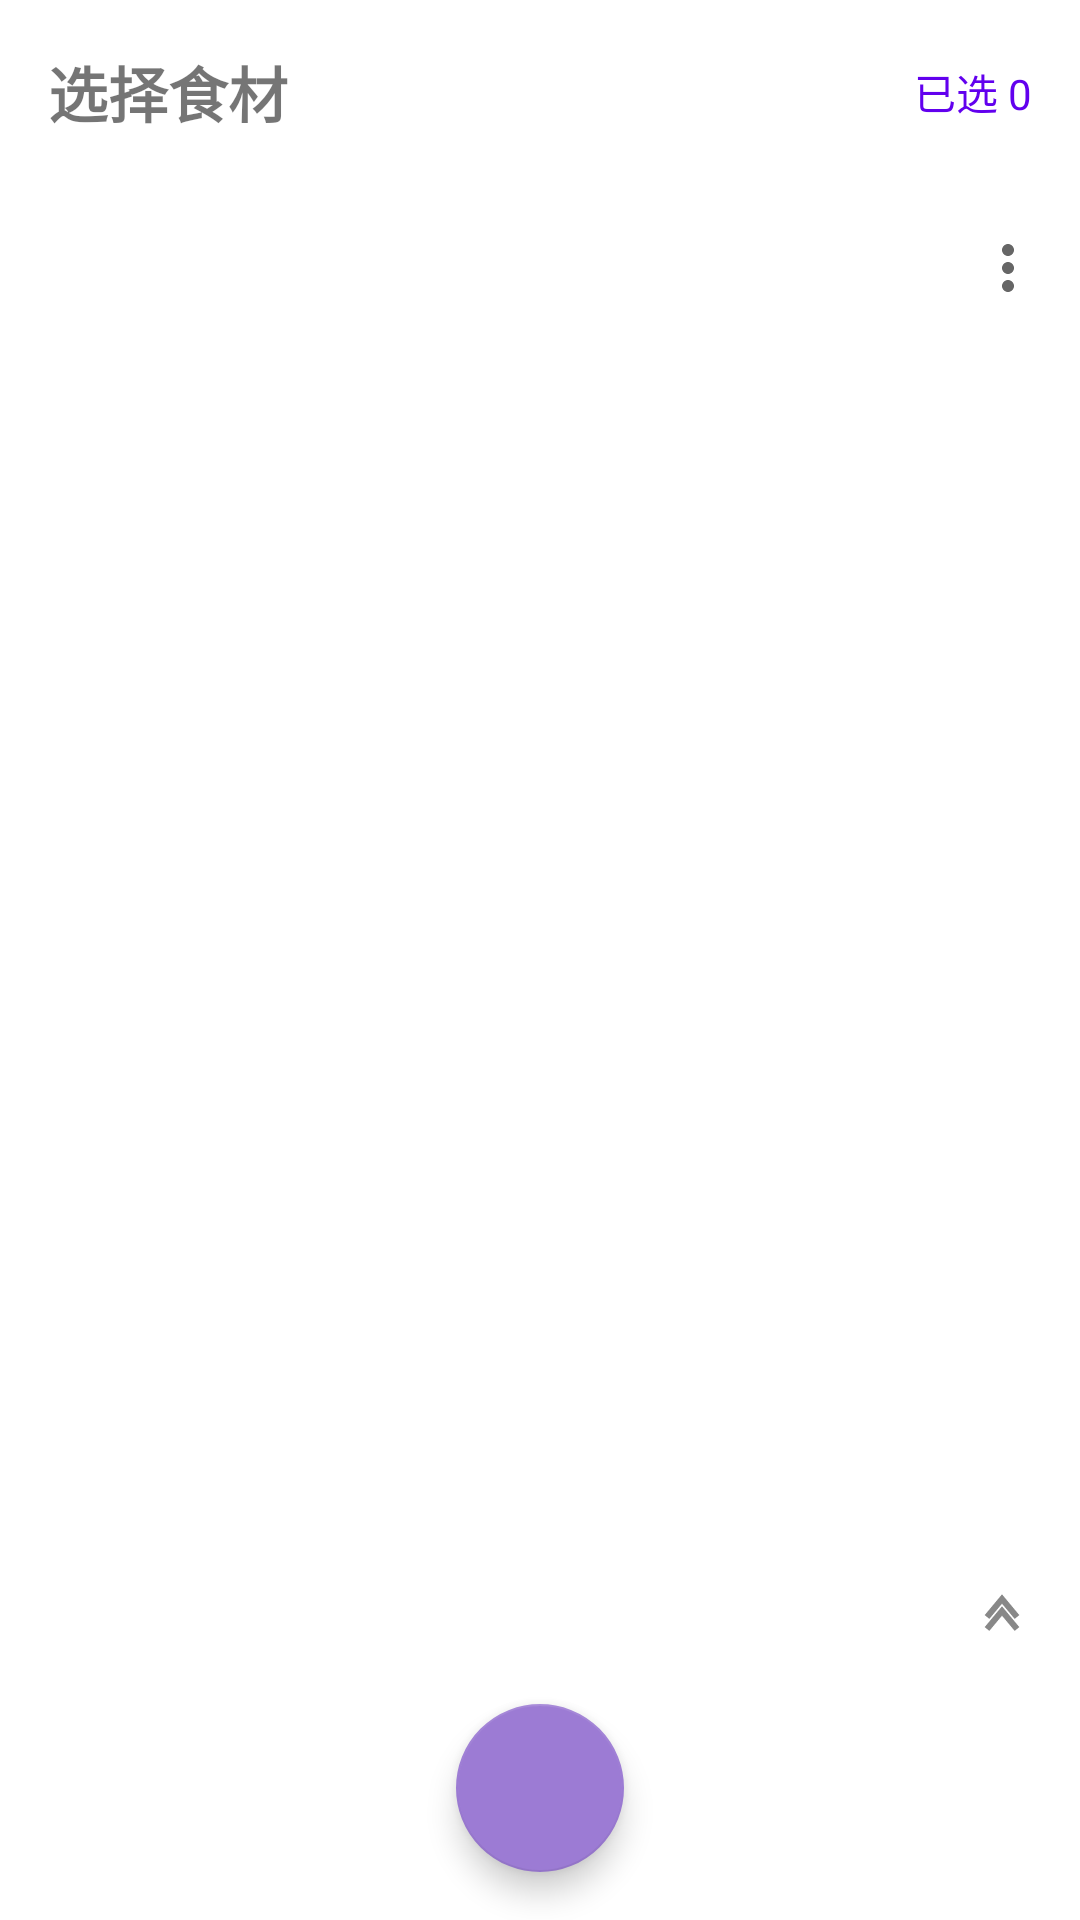

Where to tap for icons on this 1080w x 1920h app screen, as (x,y):
展开工具: (1002,1613)
更多选项: (1008,268)
